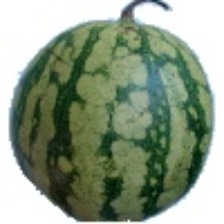watermelon: (0, 42, 201, 214)
